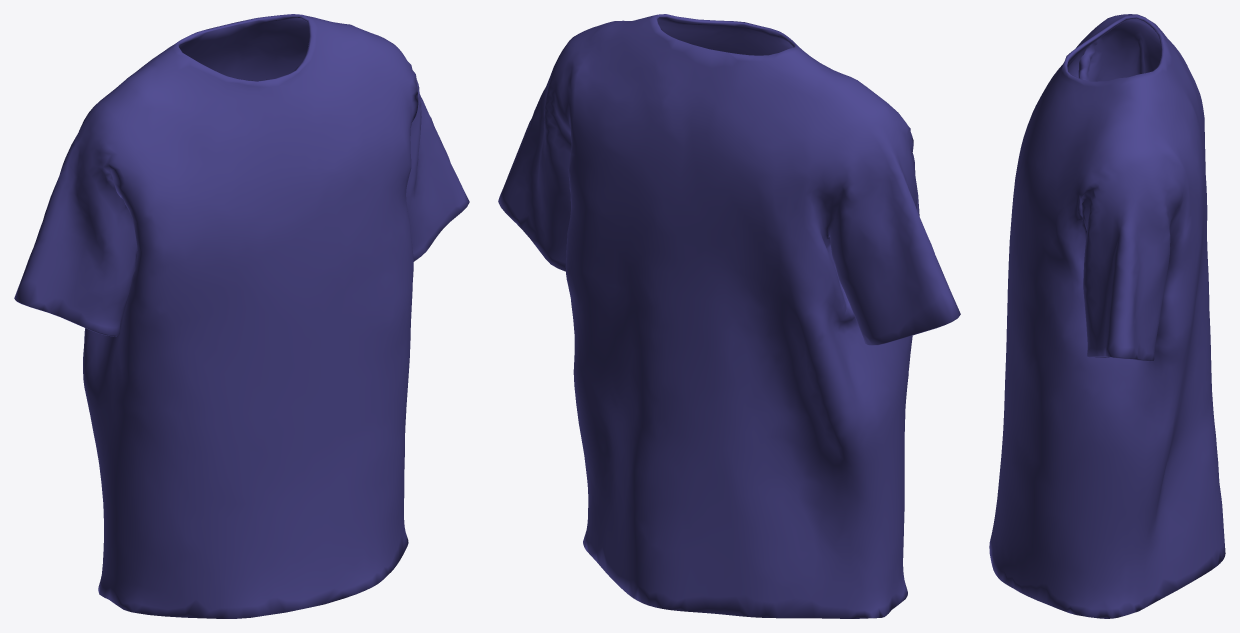
The model's file is TNSC_Tshirt5.obj.
The picture shows the model from 3 angles, left to right: view 1: azimuth 30°, elevation 25°; view 2: azimuth 150°, elevation 25°; view 3: azimuth 270°, elevation 25°; orthographic projection. The views are drawn at different scales.
Bounding box in the file's own units: 2.02 × 2.28 × 0.9599.
Materials: 1 (1 with a texture image).
